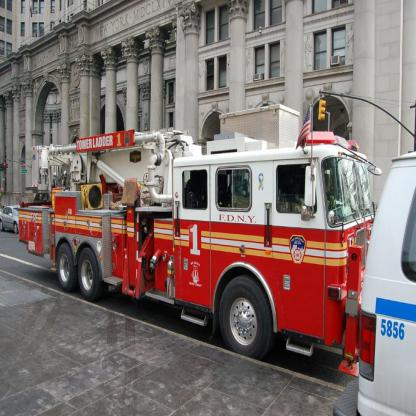Car: (0, 204, 21, 234)
Truck: (18, 103, 382, 378)
